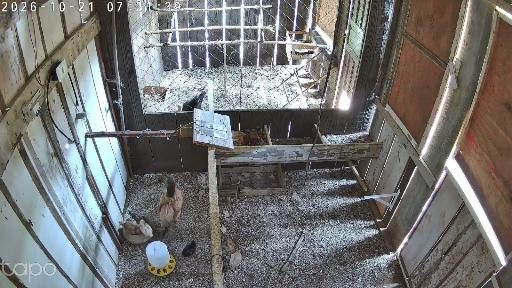frango: (193, 171, 210, 190)
galinha: (158, 174, 182, 235), (229, 128, 261, 145), (183, 91, 206, 111)
pintinho: (119, 220, 140, 236), (228, 248, 243, 270), (182, 239, 197, 258), (141, 220, 153, 238), (130, 210, 145, 222), (222, 237, 234, 250)
